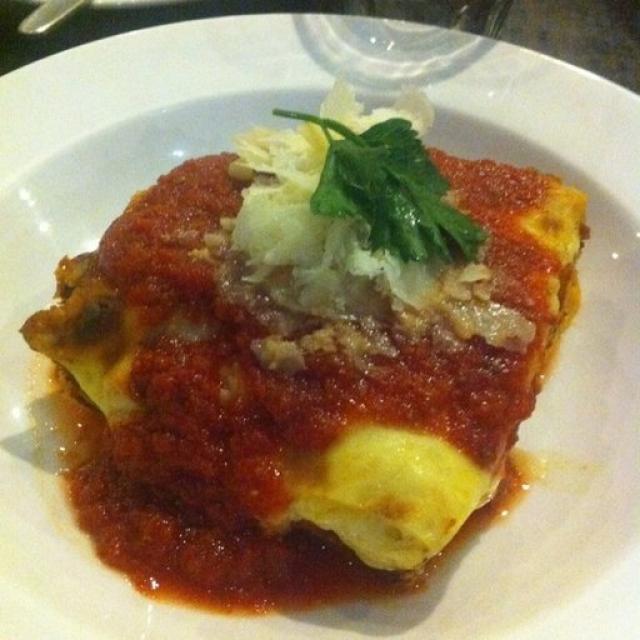Lasagna: (17, 88, 615, 589)
